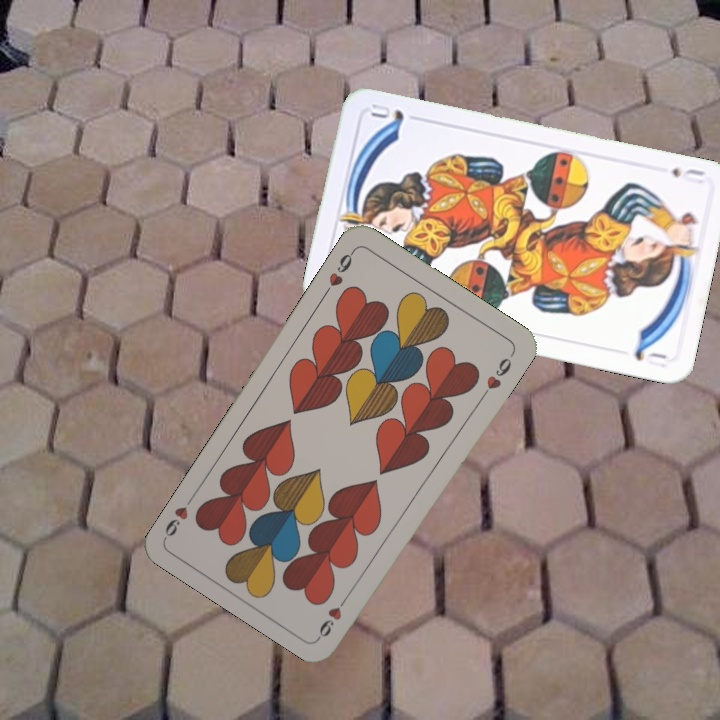H9: (314, 588, 353, 640), (320, 245, 358, 298)
SU: (667, 164, 708, 187)
